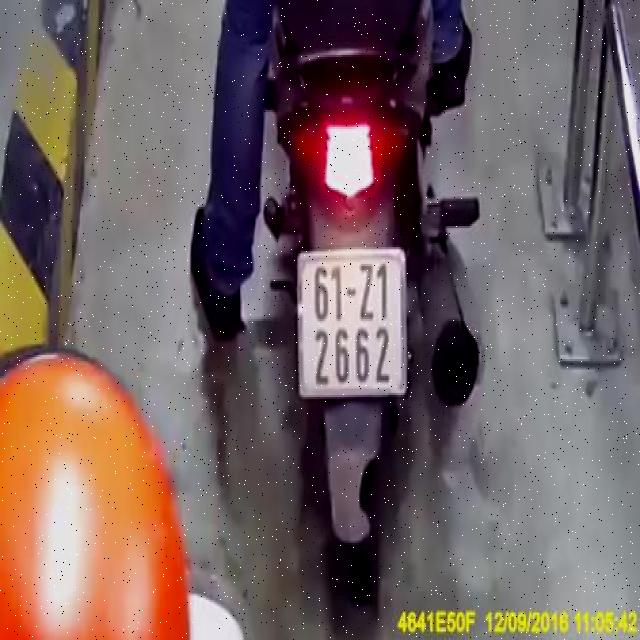1: (376, 262, 394, 321), (329, 264, 346, 321)
2: (373, 327, 392, 387), (316, 329, 329, 386)
6: (353, 326, 374, 389), (332, 331, 352, 383), (313, 264, 328, 324)
Z: (360, 259, 376, 323)
